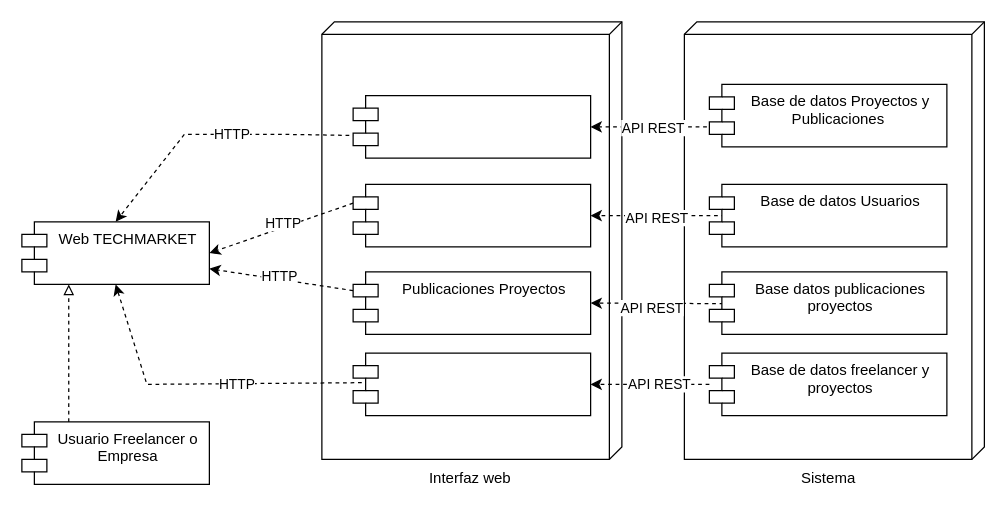
This 1006x519 diagram has some shape labels left out. Here are the shapes that lost their labels. From the top down, the centre of each, then its label:
the point at 471,126: Panel de control Proyectos
the point at 471,215: Perfil Usuarios
the point at 471,384: Búsqueda y filtros
